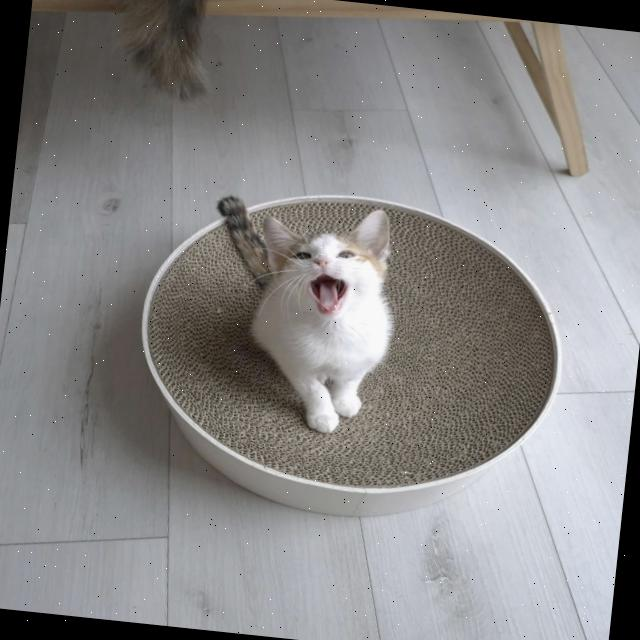calico_cat: (241, 192, 402, 341)
